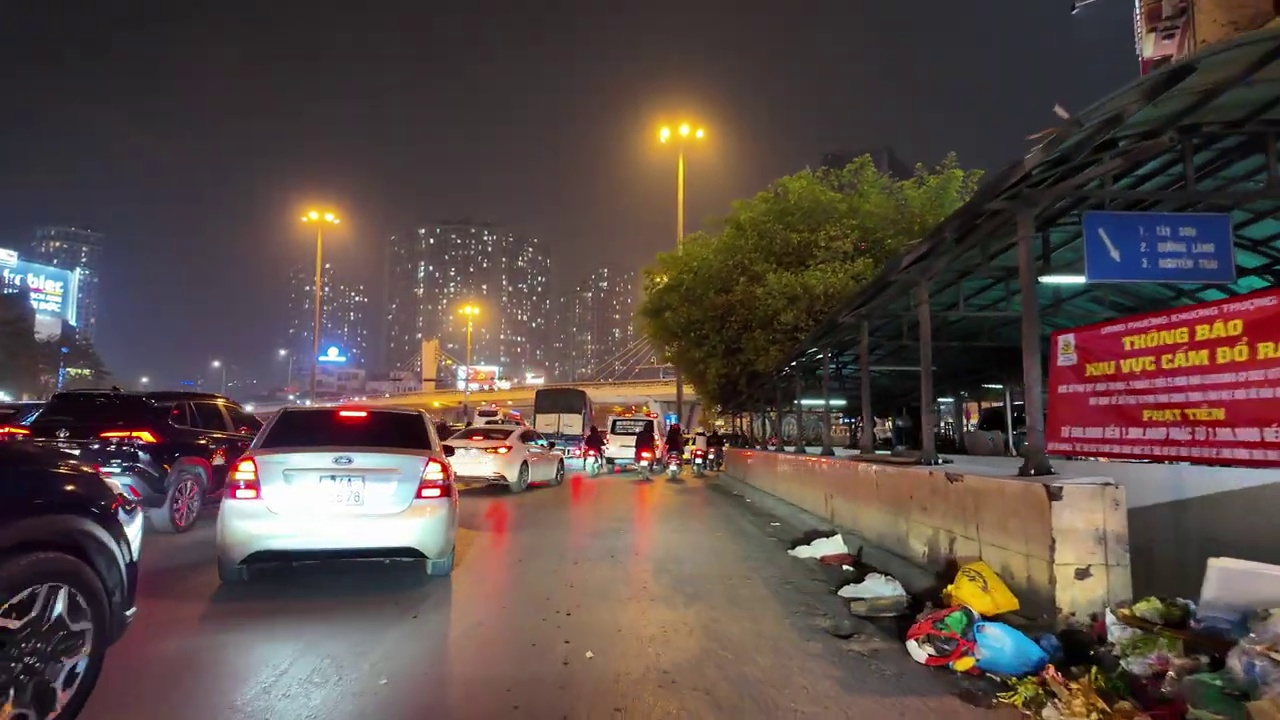acesa: (654, 117, 708, 150), (302, 203, 344, 234), (454, 300, 488, 328)
